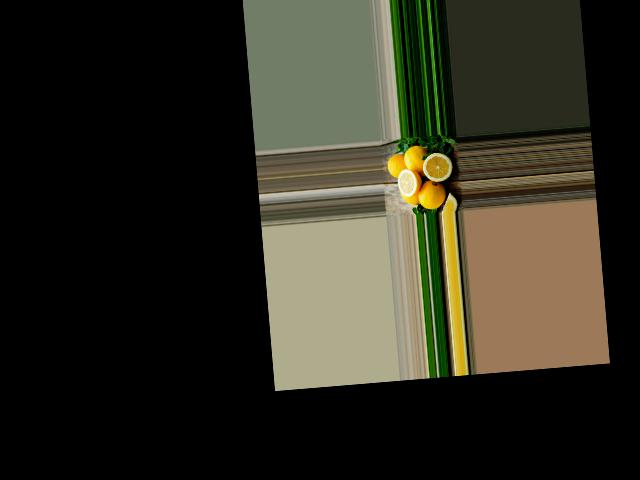lemon: (400, 189, 421, 207)
